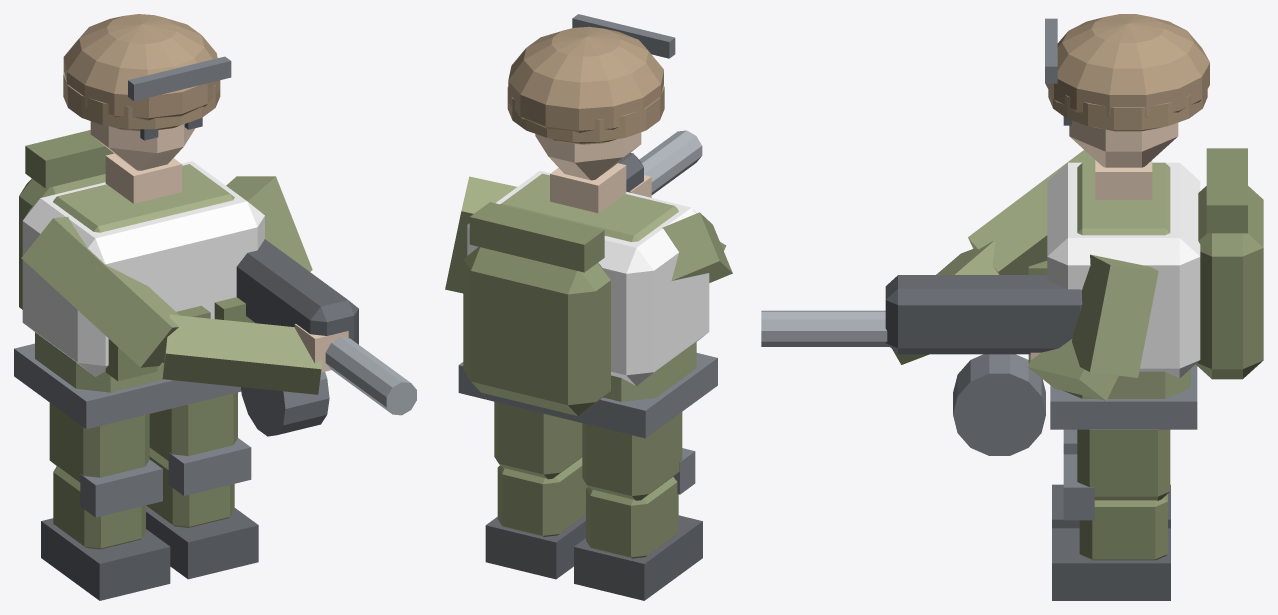
Rendered from breaker.glb.
3 views of the same model, side by side, from view 1: azimuth 30°, elevation 25°; view 2: azimuth 150°, elevation 25°; view 3: azimuth 270°, elevation 25° (orthographic).
Parts seen in each view (by area): view 1: main, shinl, shinr, legl, legr; view 2: main, shinl, shinr, legl, legr; view 3: main, shinr, legr, shinl.
Part boxes in pixels (x1,y1,x2,y2): main: [14, 14, 416, 436]; shinl: [41, 459, 170, 600]; shinr: [146, 438, 258, 579]; legl: [49, 403, 149, 482]; legr: [149, 392, 237, 461]; main: [445, 14, 732, 438]; shinl: [574, 448, 702, 600]; shinr: [485, 457, 587, 579]; legl: [582, 412, 682, 500]; legr: [494, 401, 582, 479]; main: [761, 14, 1263, 455]; shinr: [1052, 454, 1170, 600]; legr: [1077, 429, 1170, 500]; shinl: [1052, 429, 1170, 528].
Bounding box in the file's own units: 0.3161 × 0.5733 × 0.485.
